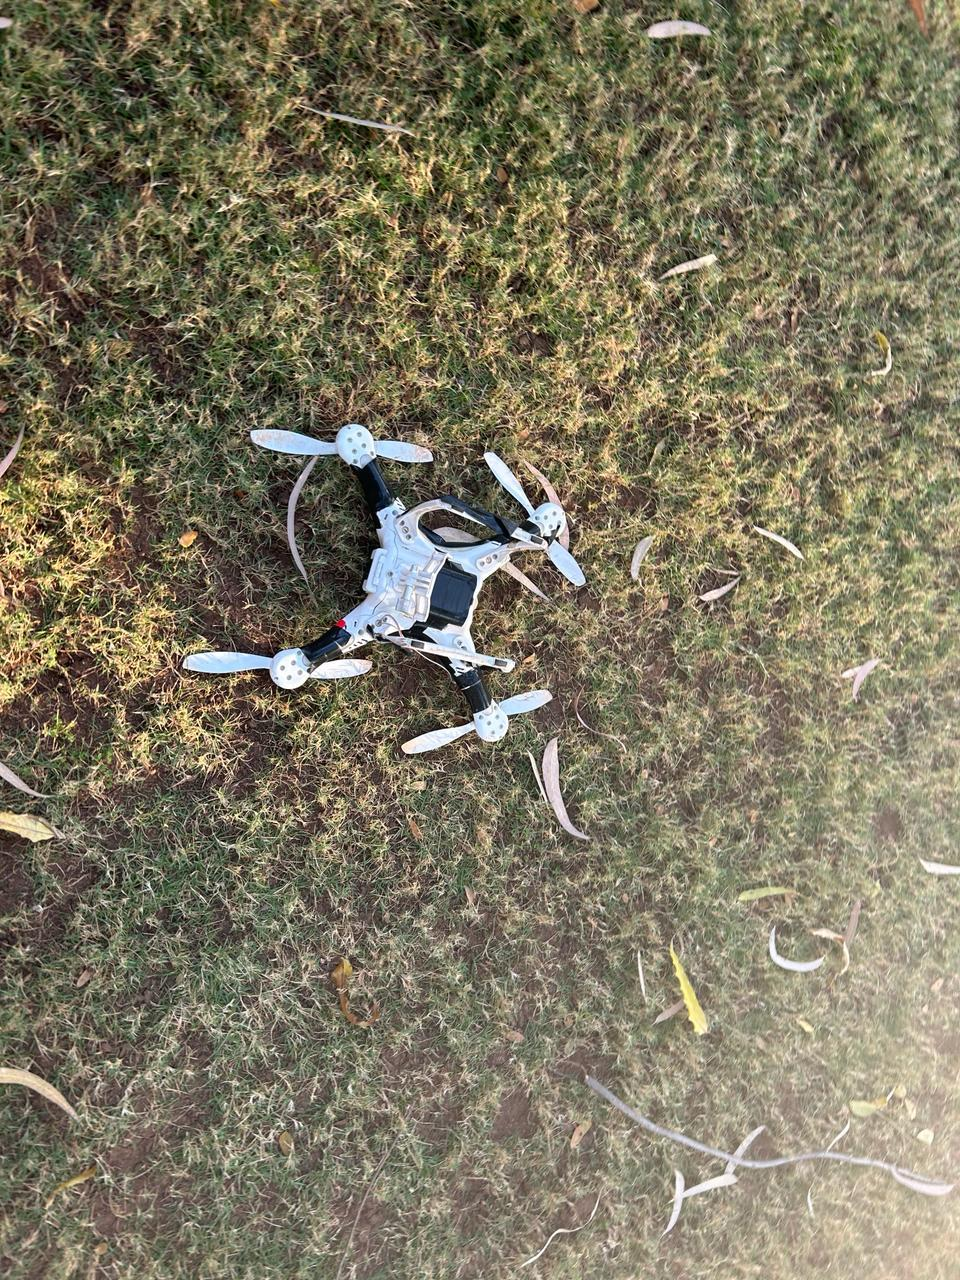drone: (121, 294, 700, 810)
